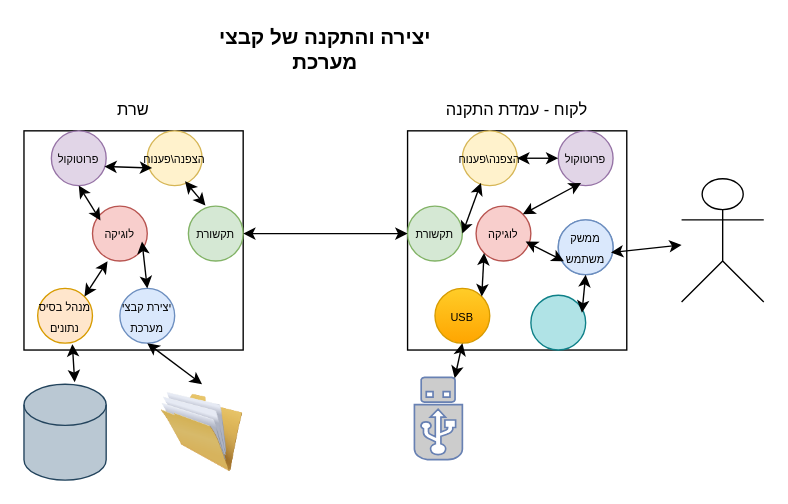
Image size: 788x504. Some labels were removed from this diagram. Each missing label, with the centre of its shape:
"Actor" belongs at [722,239].
"בדיקת תקינות" belongs at [558,322].
